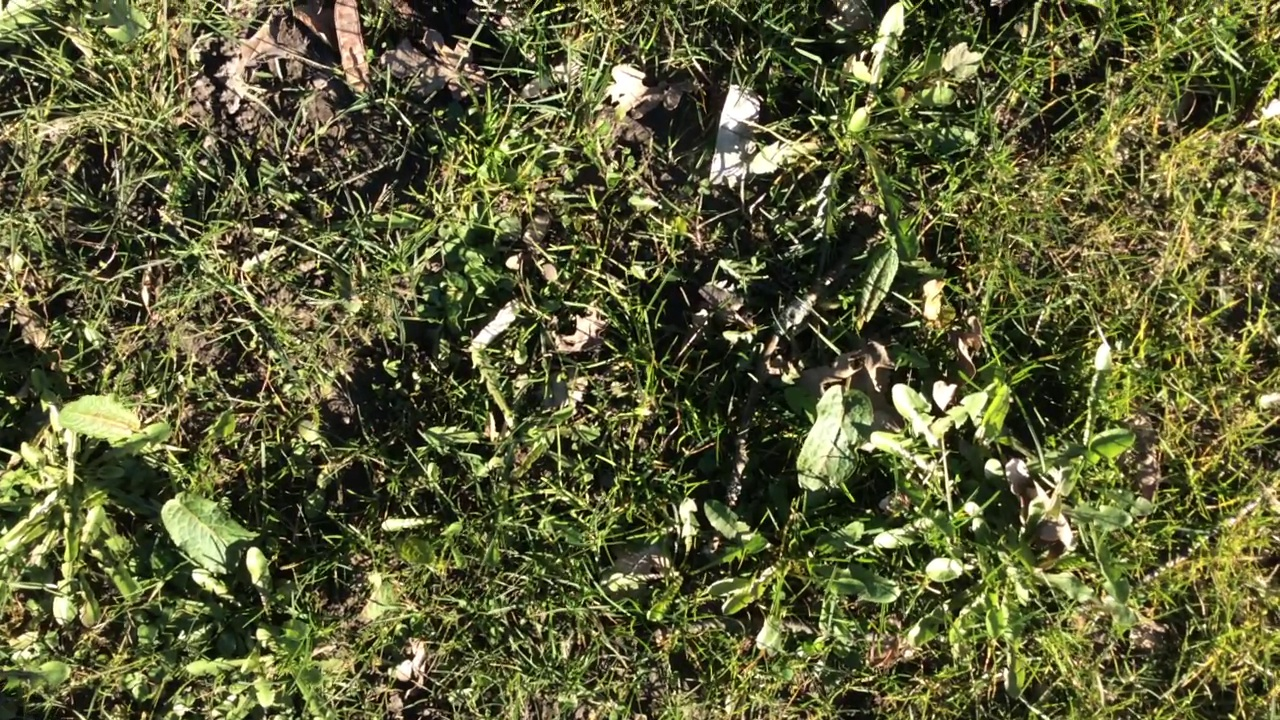rumex: (163, 495, 255, 580), (798, 386, 871, 493), (60, 394, 144, 443), (858, 249, 900, 323)
